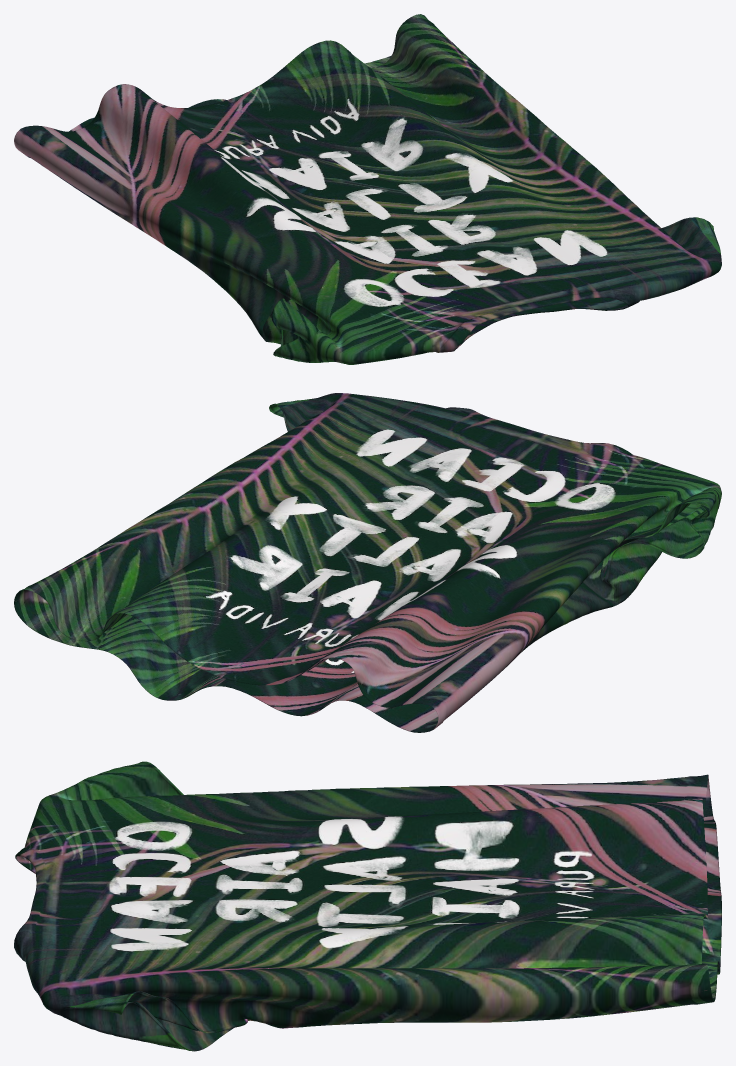
File: TNSC_Tshirt_clo08_1.obj
3 views of the same model, one above another, from view 1: azimuth 30°, elevation 25°; view 2: azimuth 150°, elevation 25°; view 3: azimuth 270°, elevation 25° (orthographic). The views are drawn at different scales.
Size of the model in its own units: 16.15 by 3.03 by 20.69.
1 material, 1 textured.
